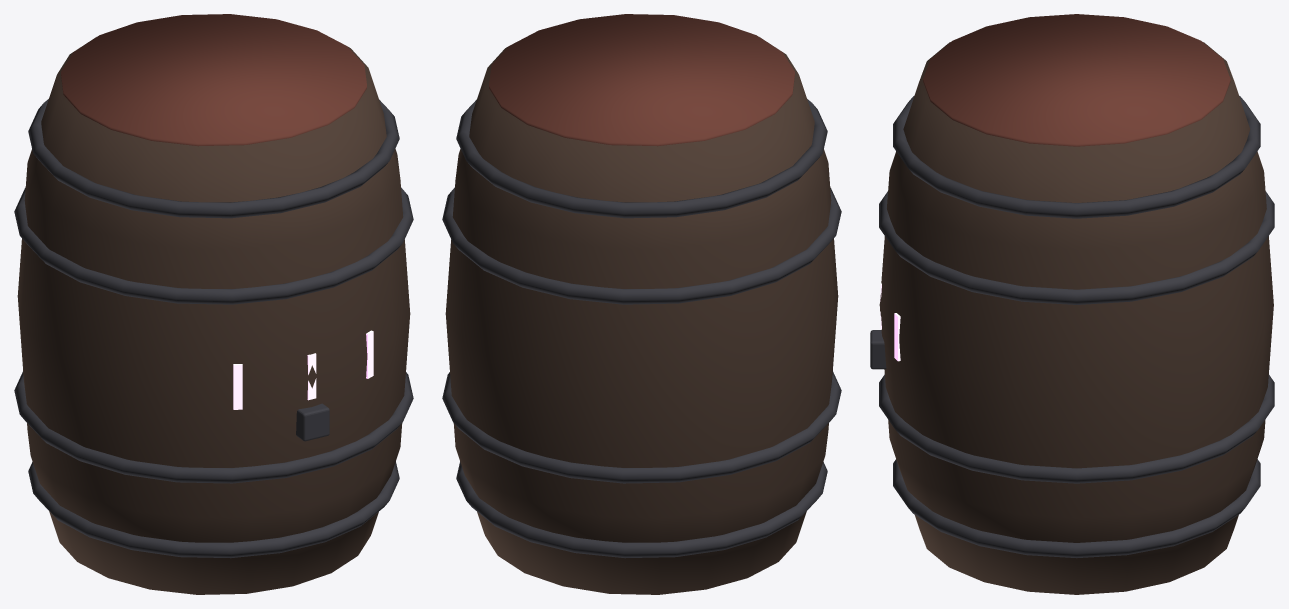
The model's file is barrel_rune_barrel.glb.
3 renders of one model, left to right at view 1: azimuth 30°, elevation 25°; view 2: azimuth 150°, elevation 25°; view 3: azimuth 270°, elevation 25°, orthographic.
Parts seen in each view (by area): view 1: GD_barrel_rune_barrel__m0, GD_barrel_rune_barrel__m2, GD_barrel_rune_barrel__m1, GD_barrel_rune_barrel__m3; view 2: GD_barrel_rune_barrel__m0, GD_barrel_rune_barrel__m2, GD_barrel_rune_barrel__m1; view 3: GD_barrel_rune_barrel__m0, GD_barrel_rune_barrel__m2, GD_barrel_rune_barrel__m1.
Part boxes in pixels (x1=…): GD_barrel_rune_barrel__m0: x1=17, y1=37, x2=410, y2=594; GD_barrel_rune_barrel__m2: x1=61, y1=14, x2=366, y2=146; GD_barrel_rune_barrel__m1: x1=14, y1=99, x2=413, y2=558; GD_barrel_rune_barrel__m3: x1=233, y1=330, x2=373, y2=409; GD_barrel_rune_barrel__m0: x1=445, y1=37, x2=838, y2=594; GD_barrel_rune_barrel__m2: x1=489, y1=14, x2=794, y2=146; GD_barrel_rune_barrel__m1: x1=442, y1=99, x2=841, y2=558; GD_barrel_rune_barrel__m0: x1=879, y1=42, x2=1273, y2=594; GD_barrel_rune_barrel__m2: x1=923, y1=14, x2=1230, y2=146; GD_barrel_rune_barrel__m1: x1=870, y1=96, x2=1274, y2=558.
Size of the model in its own units: 0.6484 by 0.805 by 0.6559.
